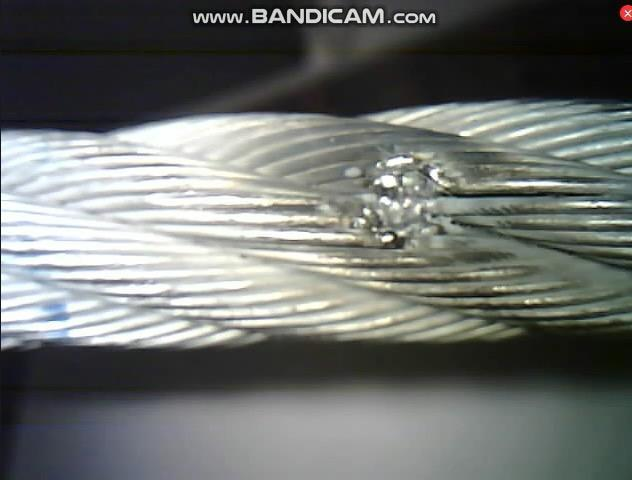thunderbolt: (339, 134, 514, 265)
